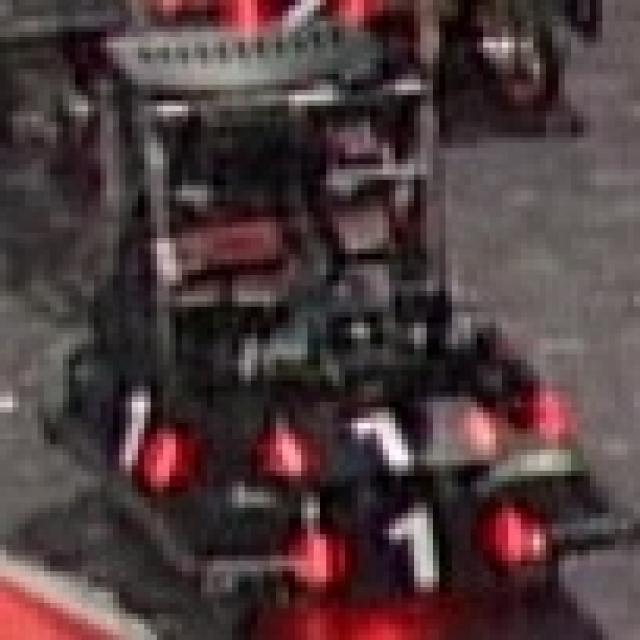R1: (295, 497, 527, 587), (263, 396, 502, 471)
